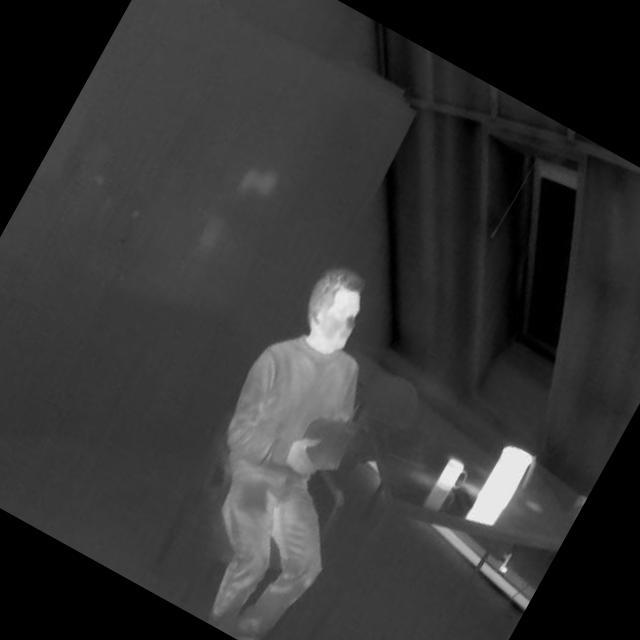person: (129, 249, 464, 640)
